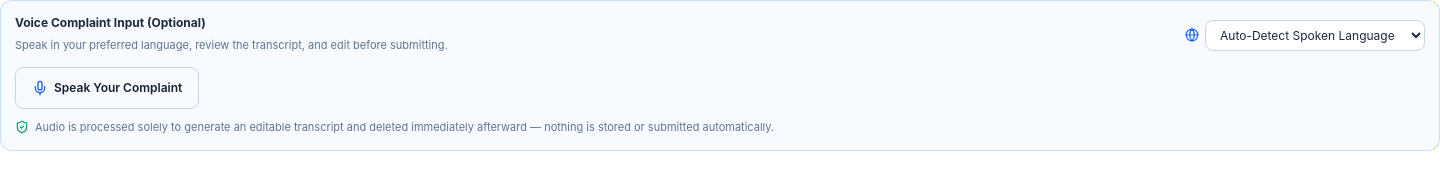
Test: VoiceInput (Speech-to-Text) workflows › handles microphone permission denial cleanly with actionable message
The image size is (1440, 194).
Click the button "Speak Your Complaint".
click(107, 88)  # box left=15, top=67, right=199, bottom=109
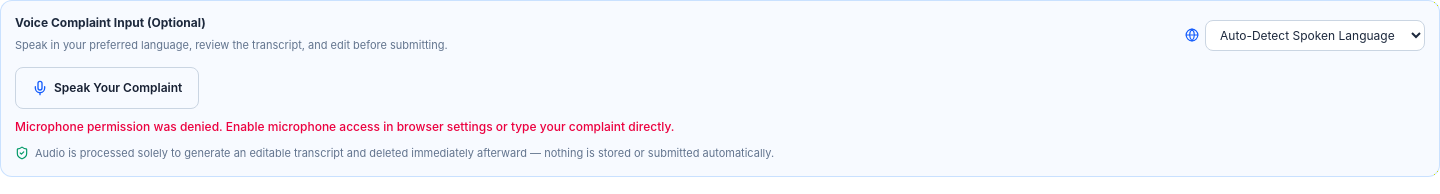
Check: the text "Microphone permission was denied" is shown, box left=15, top=119, right=674, bottom=134
